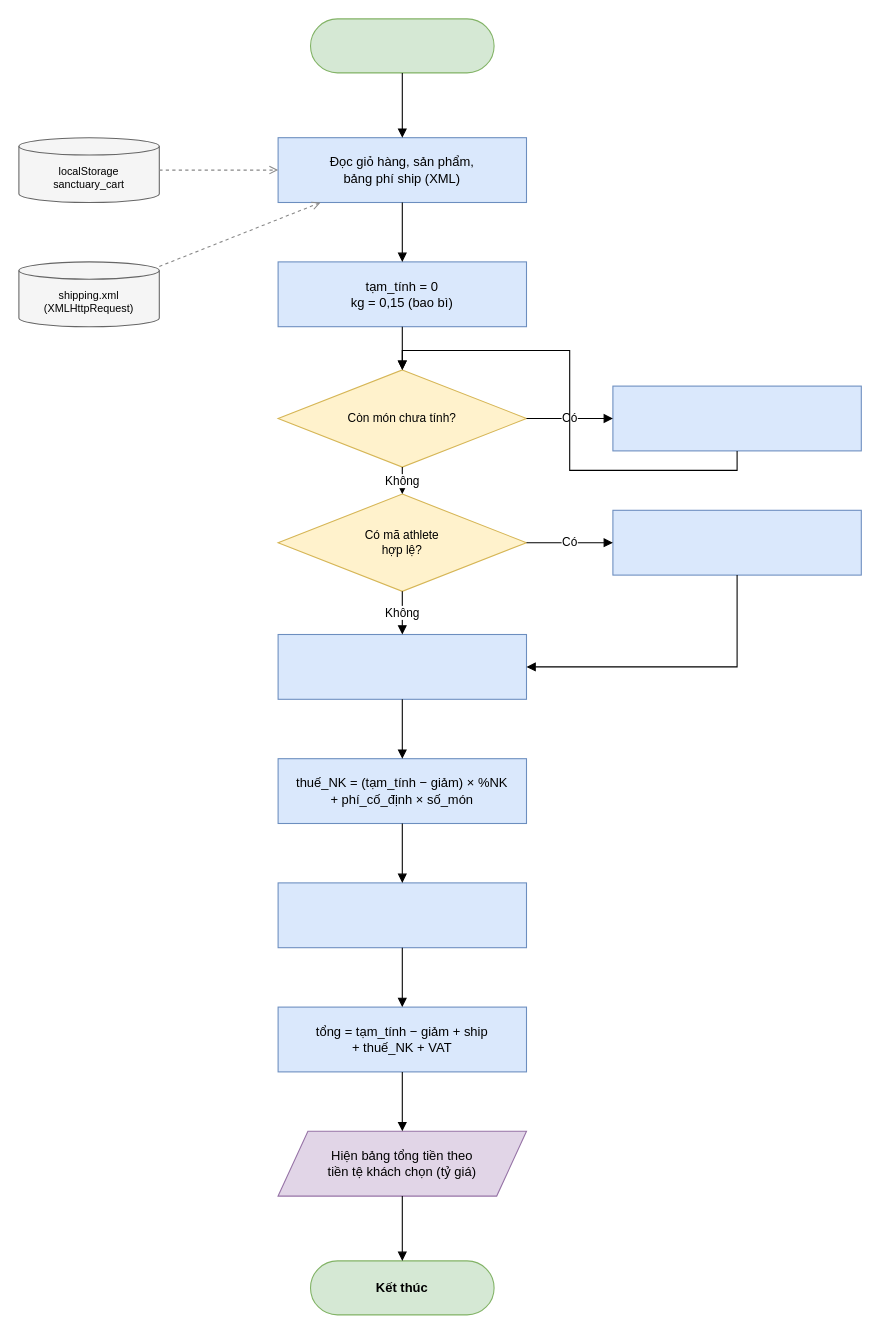
The diagram is 880 pixels wide and 1334 high, and some of its shapes have lost their labels. Here are the shapes that lost their labels. From the top down, the centre of each, then its label:
At [401,45]: "Bắt đầu".
At [736,418]: "tạm_tính += giá × SL kg += kg_theo_loại × SL".
At [736,542]: "giảm = 10% × tạm_tính".
At [401,666]: "kg_tính_cước = làm tròn lên 0,5 kg ship = phí_gốc_vùng + giá/kg × kg".
At [401,915]: "VAT = (tạm_tính − giảm + ship + thuế_NK) × %thuế của nước".
